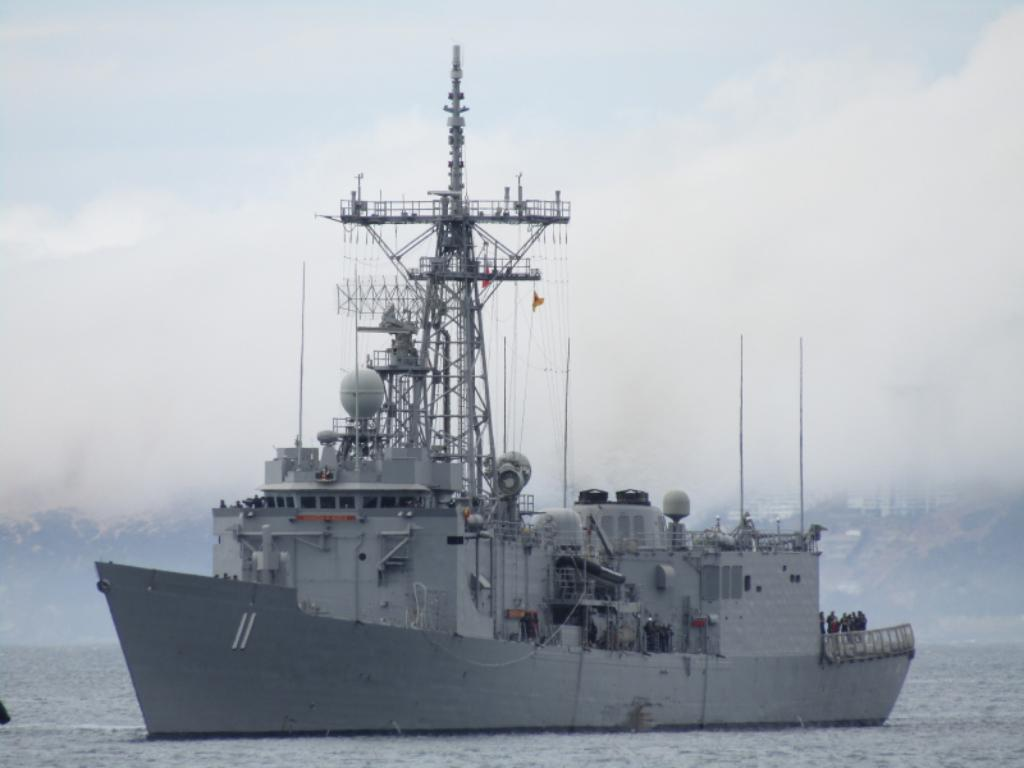Warship: (88, 42, 920, 738)
